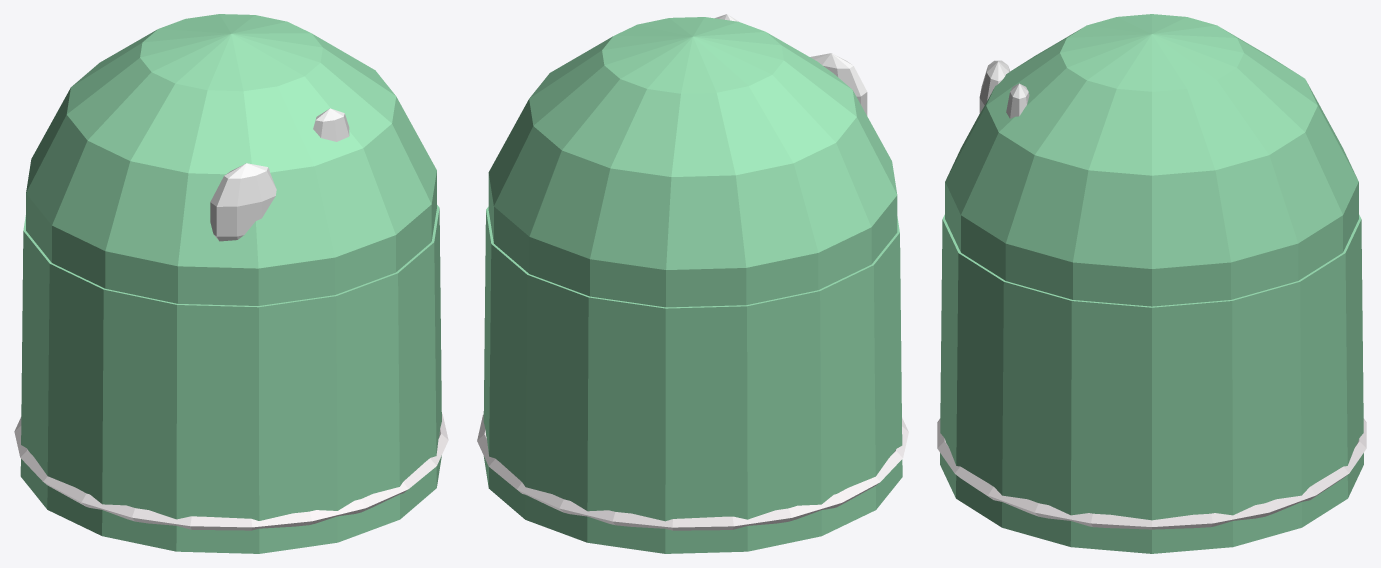
The model's file is gominola_verde.glb.
The picture shows the model from 3 angles, left to right: view 1: azimuth 30°, elevation 25°; view 2: azimuth 150°, elevation 25°; view 3: azimuth 270°, elevation 25°; orthographic projection.
Parts seen in each view (by area): view 1: gominola_verde; view 2: gominola_verde; view 3: gominola_verde.
Boxes of the visible parts, x1,y1,x2,y2 form: gominola_verde: (14,14,448,553); gominola_verde: (477,14,908,553); gominola_verde: (937,14,1366,553).
Bounding box in the file's own units: 1.64 × 1.79 × 1.62.
